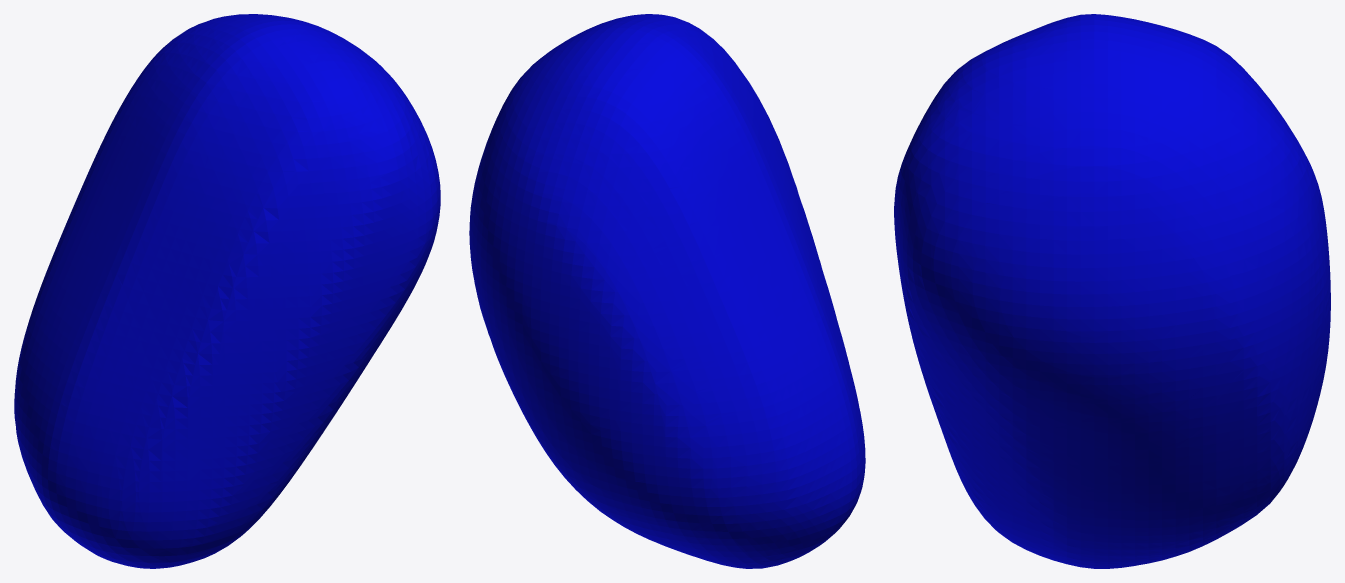
Rendered from hand_part_2.glb.
3 views of the same model, side by side, from view 1: azimuth 30°, elevation 25°; view 2: azimuth 150°, elevation 25°; view 3: azimuth 270°, elevation 25° (orthographic). The views are drawn at different scales.
Size of the model in its own units: 0.0212 by 0.0279 by 0.0187.
